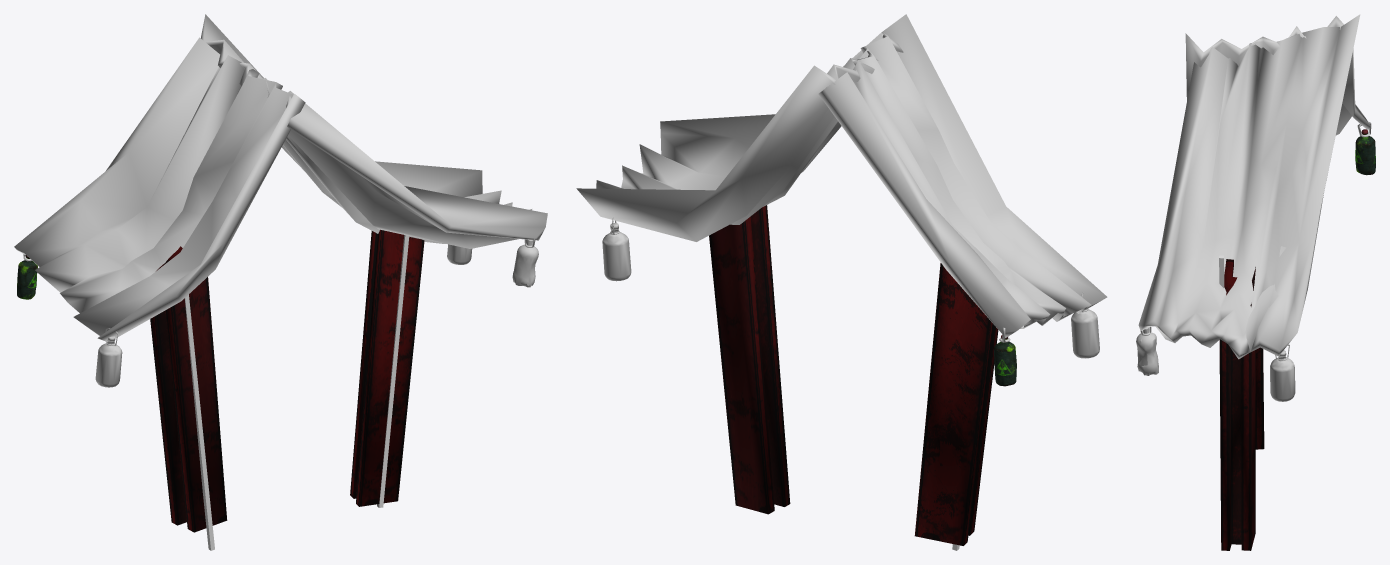
File: chineseGateBig.fbx
3 renders of one model, left to right at view 1: azimuth 30°, elevation 25°; view 2: azimuth 150°, elevation 25°; view 3: azimuth 270°, elevation 25°, orthographic. The views are drawn at different scales.
Parts seen in each view (by area): view 1: Corrugated_Roof_002.011, Corrugated_Roof_005.010, IronBeam01_001.034, IronBeam01_001.033, Cube.028, Cube.029, MalkBottle.012, Water_Bottle.013, Water_Bottle.014; view 2: Corrugated_Roof_002.011, Corrugated_Roof_005.010, IronBeam01_001.034, IronBeam01_001.033, MalkBottle.013, MalkBottle.012, Water_Bottle.014; view 3: Corrugated_Roof_005.010, IronBeam01_001.034, Corrugated_Roof_002.011, MalkBottle.013, Water_Bottle.013, IronBeam01_001.033, Water_Bottle.014.
Boxes of the visible parts, bbox=[...] form: Corrugated_Roof_002.011: bbox=[14, 37, 305, 341]; Corrugated_Roof_005.010: bbox=[201, 14, 547, 248]; IronBeam01_001.034: bbox=[350, 229, 424, 506]; IronBeam01_001.033: bbox=[150, 246, 227, 532]; Cube.028: bbox=[184, 294, 214, 550]; Cube.029: bbox=[377, 235, 409, 507]; MalkBottle.012: bbox=[95, 328, 122, 387]; Water_Bottle.013: bbox=[512, 238, 538, 287]; Water_Bottle.014: bbox=[17, 254, 37, 299]; Corrugated_Roof_002.011: bbox=[818, 14, 1107, 337]; Corrugated_Roof_005.010: bbox=[576, 32, 903, 241]; IronBeam01_001.034: bbox=[709, 205, 790, 514]; IronBeam01_001.033: bbox=[914, 263, 998, 545]; MalkBottle.013: bbox=[602, 217, 631, 281]; MalkBottle.012: bbox=[1071, 292, 1099, 358]; Water_Bottle.014: bbox=[994, 327, 1016, 386]; Corrugated_Roof_005.010: bbox=[1138, 14, 1360, 359]; IronBeam01_001.034: bbox=[1219, 259, 1255, 550]; Corrugated_Roof_002.011: bbox=[1185, 16, 1370, 135]; MalkBottle.013: bbox=[1270, 344, 1295, 401]; Water_Bottle.013: bbox=[1136, 327, 1158, 375]; IronBeam01_001.033: bbox=[1255, 347, 1264, 449]; Water_Bottle.014: bbox=[1355, 121, 1375, 175].
Size of the model in its own units: 17.71 by 18.14 by 8.23.
